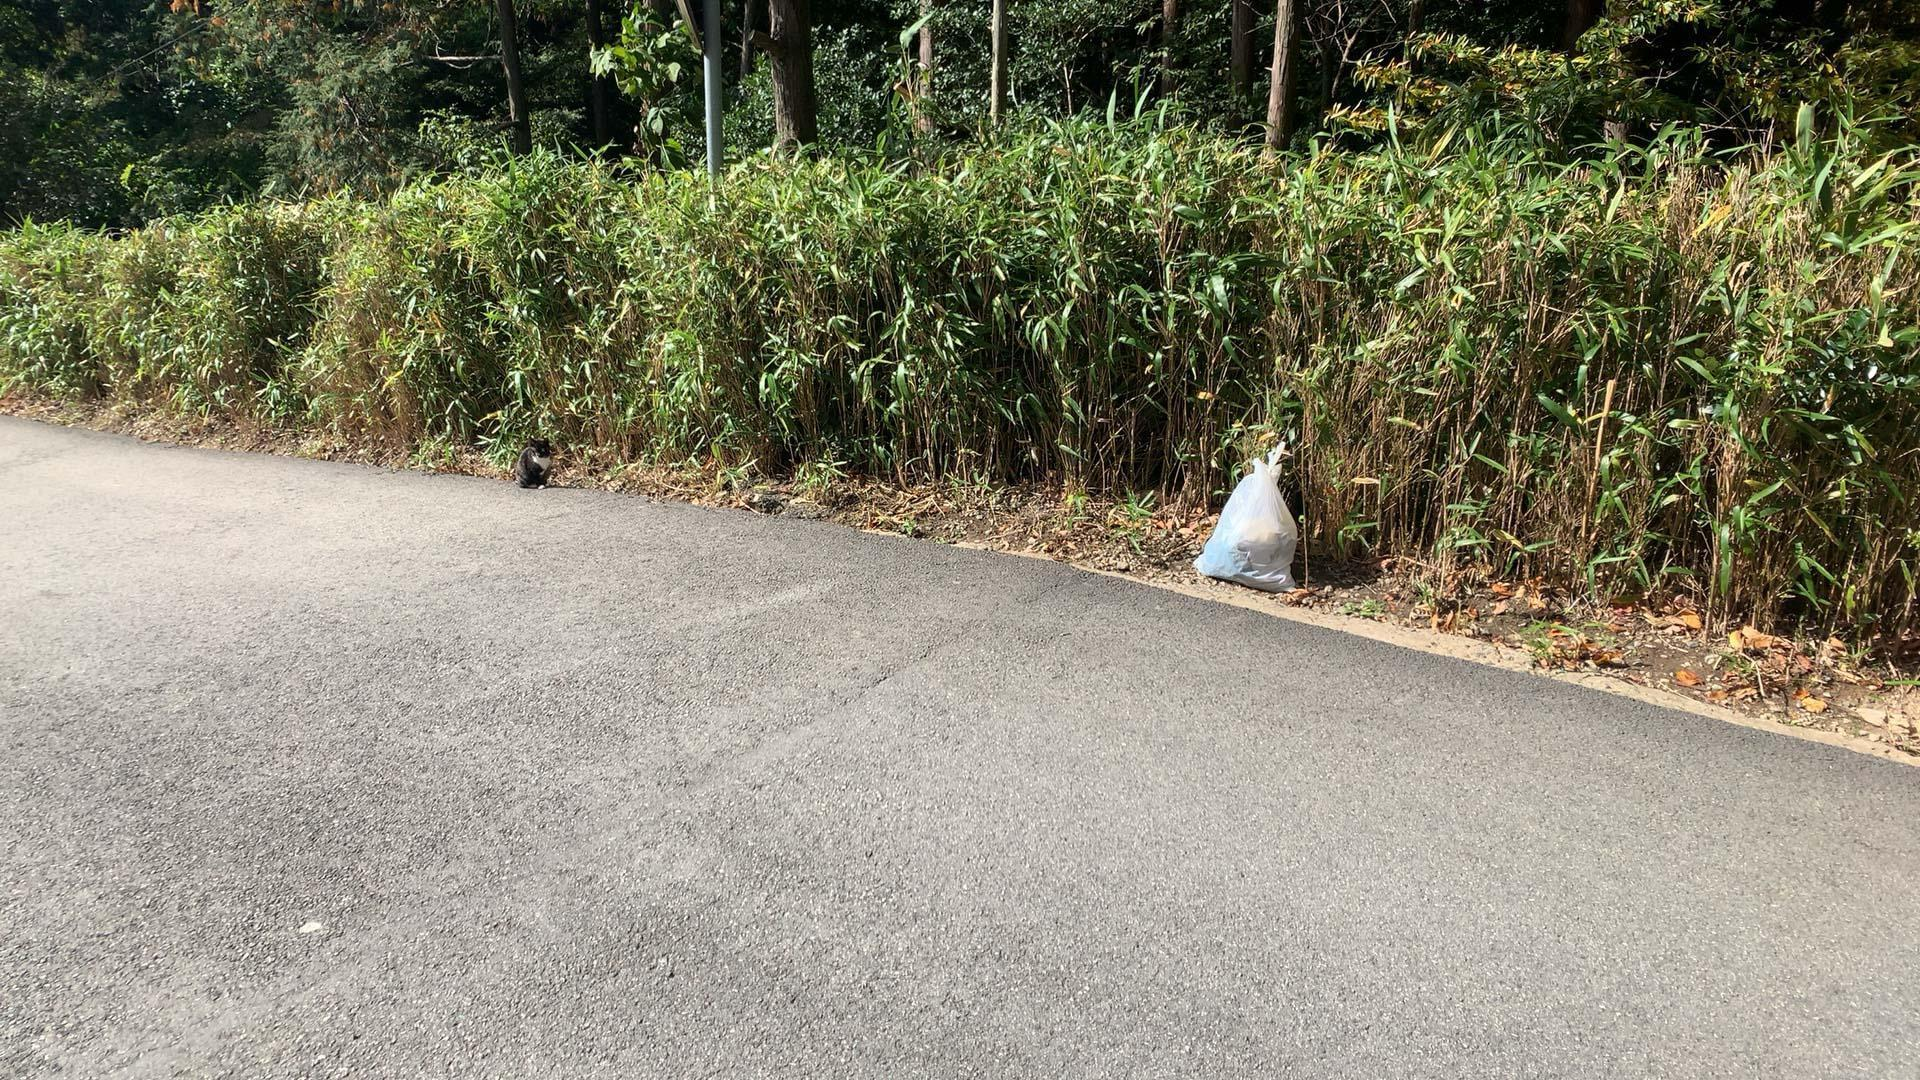white_bag: (1191, 438, 1303, 597)
